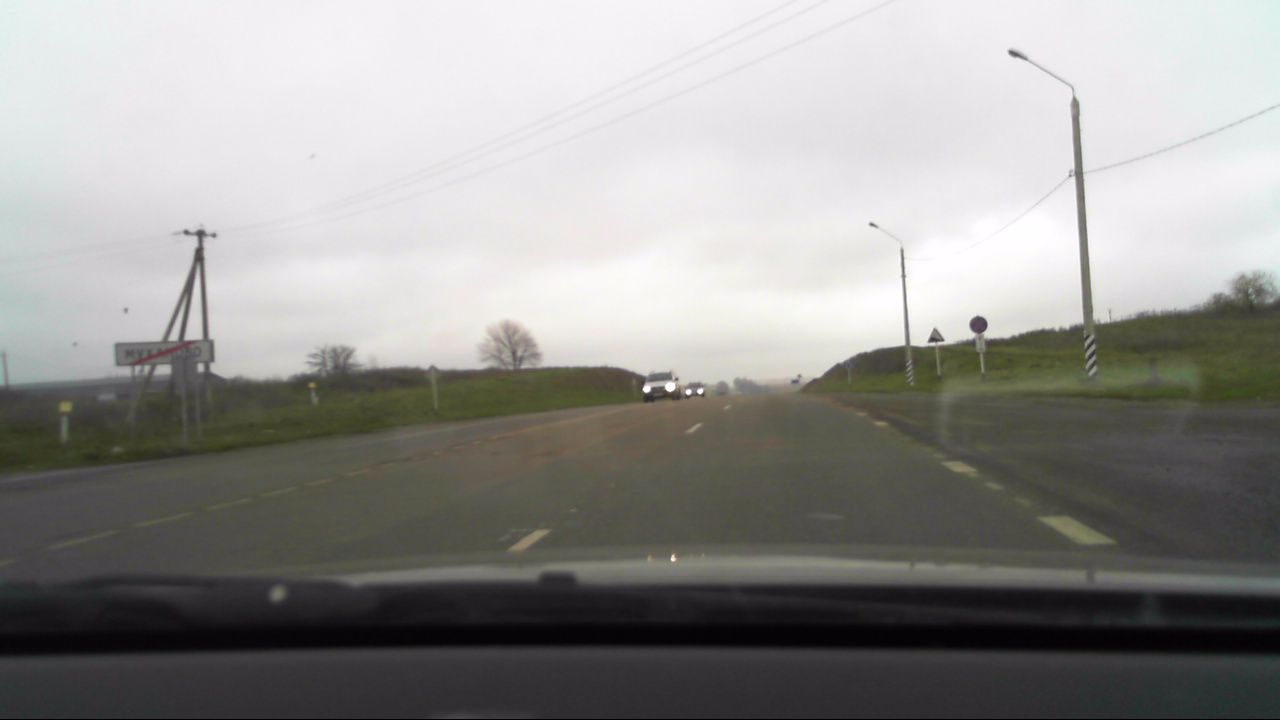No Parking: (967, 316, 987, 335)
